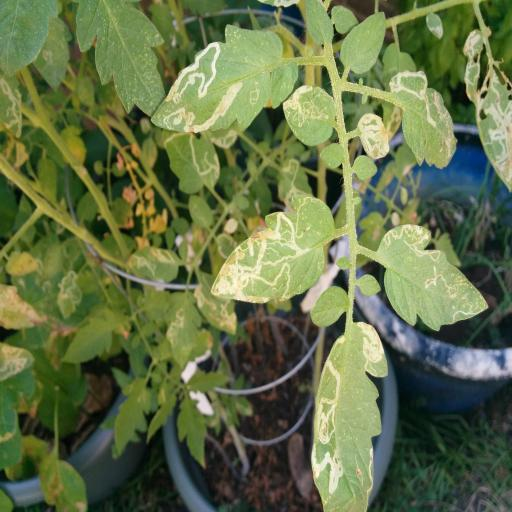disease_tomato: (148, 20, 298, 134), (312, 320, 388, 512), (210, 192, 334, 304), (379, 222, 488, 334), (463, 24, 512, 193), (389, 64, 458, 170), (284, 82, 336, 146), (358, 111, 390, 160)
